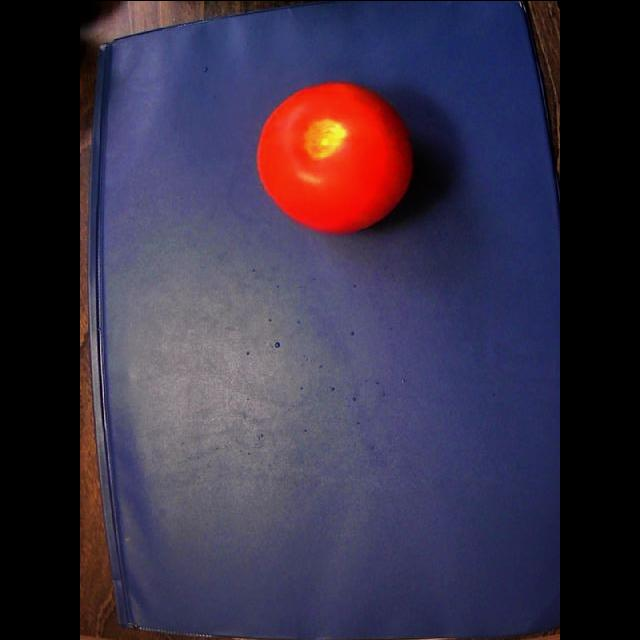tomate: (257, 82, 412, 232)
